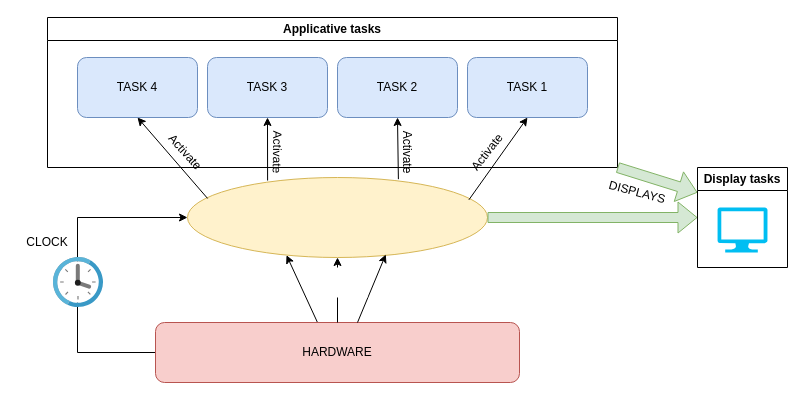
This 805x400 diagram has some shape labels left out. The centre of each missing label's shape, as x and y in pixels:
"Interupts" goes at point 337,282.
"KERNEL" goes at point 337,217.
